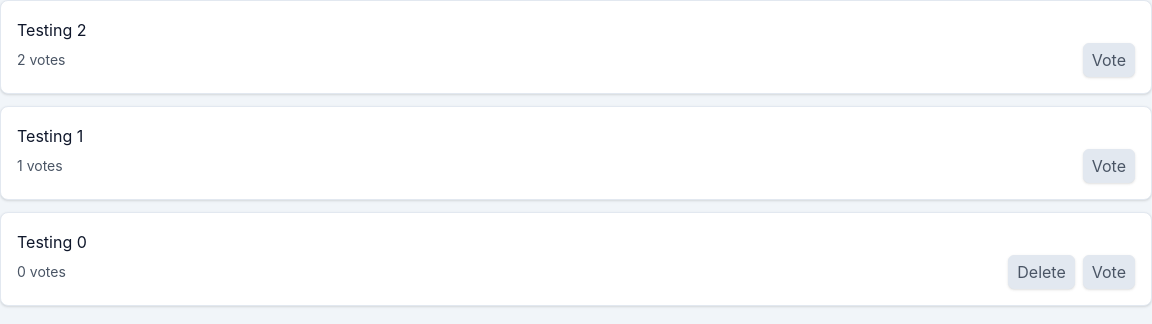
Test: <AnecdoteList/> › voting increases the number of votes for an anecdote.
Click the 3rd button "Vote".
click(1109, 272)  # box [1083, 255, 1135, 289]
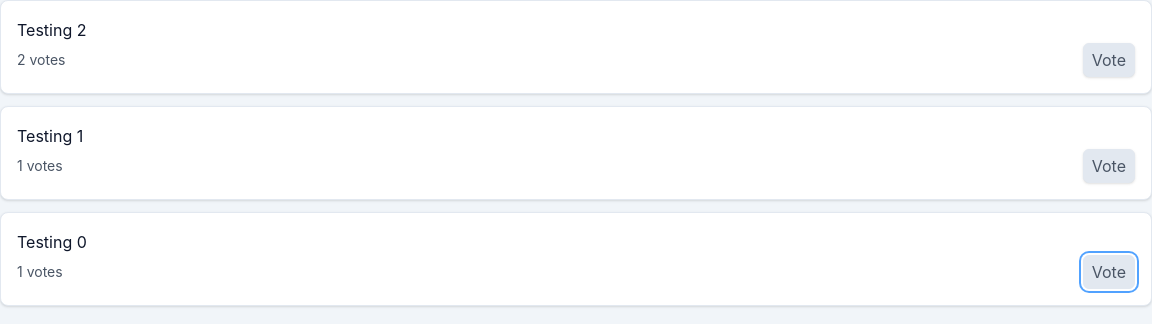
Expected: the text "1 votes" below "Testing 0" is shown, [17, 262, 63, 282]
